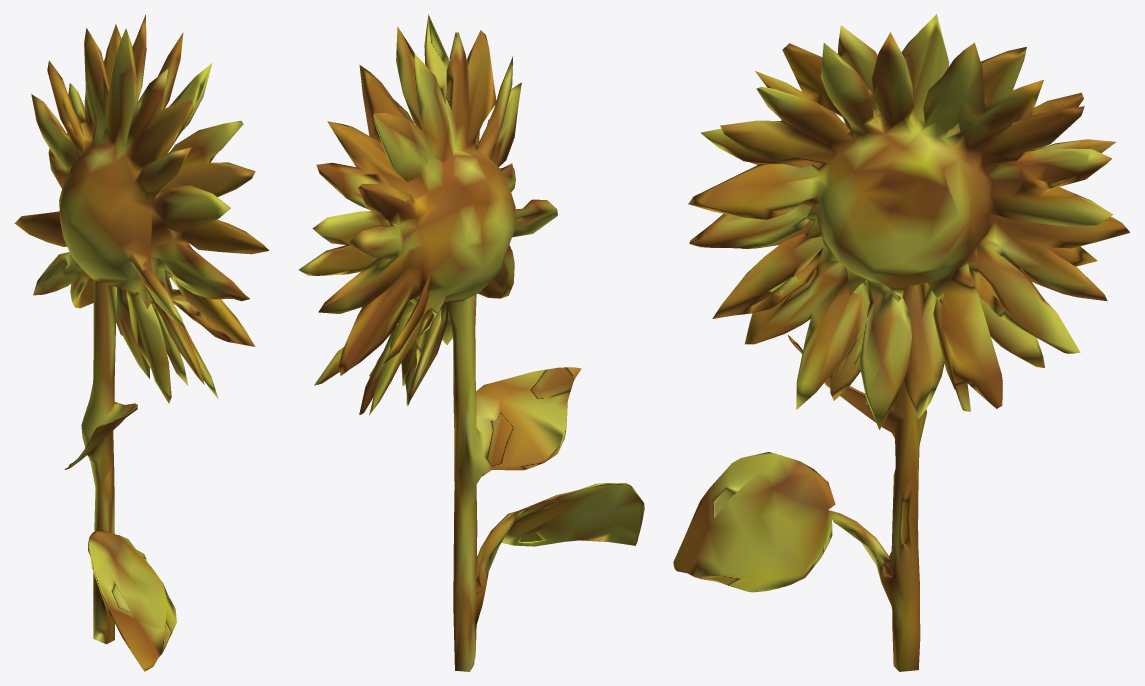
The model's file is girasol.glb.
3 views of the same model, side by side, from view 1: azimuth 30°, elevation 25°; view 2: azimuth 150°, elevation 25°; view 3: azimuth 270°, elevation 25° (orthographic). The views are drawn at different scales.
Visible parts, largest first — view 1: tripo_node_5a63bf3d-638c-4715-a974-35e419463d9e; view 2: tripo_node_5a63bf3d-638c-4715-a974-35e419463d9e; view 3: tripo_node_5a63bf3d-638c-4715-a974-35e419463d9e.
Boxes of the visible parts, left/top/right/bottom form: tripo_node_5a63bf3d-638c-4715-a974-35e419463d9e: left=14, top=14, right=269, bottom=671; tripo_node_5a63bf3d-638c-4715-a974-35e419463d9e: left=298, top=14, right=644, bottom=671; tripo_node_5a63bf3d-638c-4715-a974-35e419463d9e: left=673, top=14, right=1129, bottom=671.
Size of the model in its own units: 0.2789 by 1 by 0.6131.
